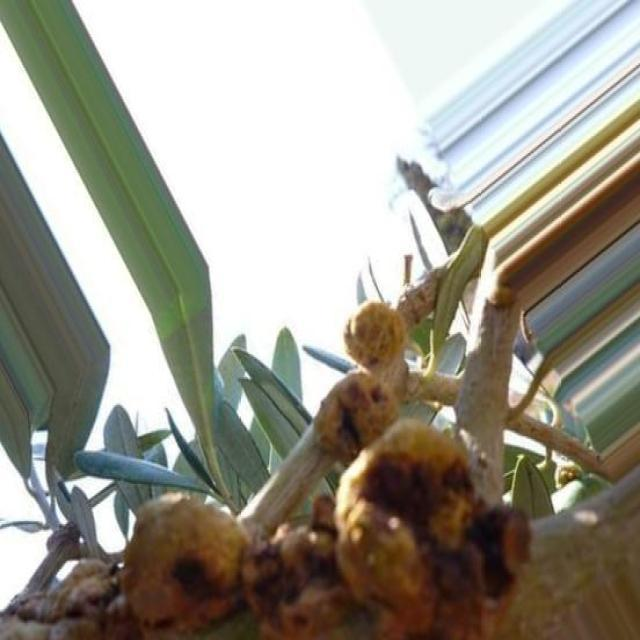Tuberculosis: (122, 418, 530, 638), (324, 302, 408, 468)
